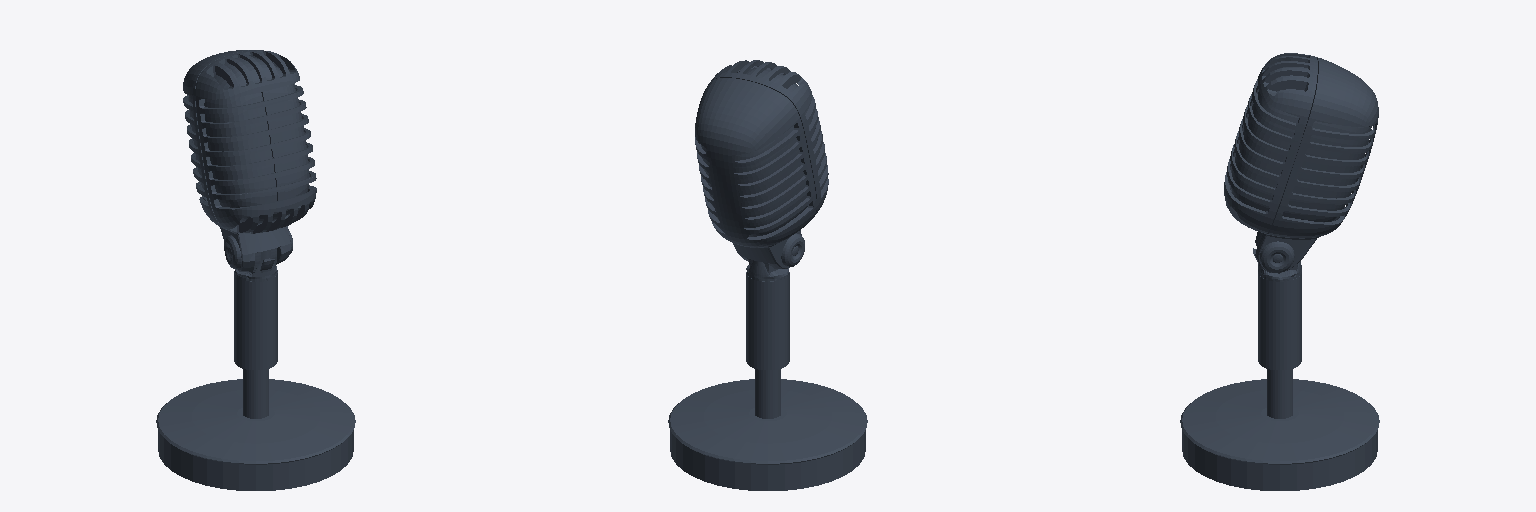
File: Shure_55.obj
3 renders of one model, left to right at view 1: azimuth 30°, elevation 25°; view 2: azimuth 150°, elevation 25°; view 3: azimuth 270°, elevation 25°, orthographic.
Visible parts, largest first — view 1: Shure_55; view 2: Shure_55; view 3: Shure_55.
Part boxes in pixels (x1,y1,x2,y2): Shure_55: (156, 50, 355, 490); Shure_55: (668, 60, 867, 490); Shure_55: (1180, 53, 1379, 490).
Bounding box in the file's own units: 0.204 × 0.4377 × 0.204.